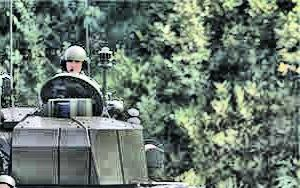tanks: (1, 72, 200, 188)
